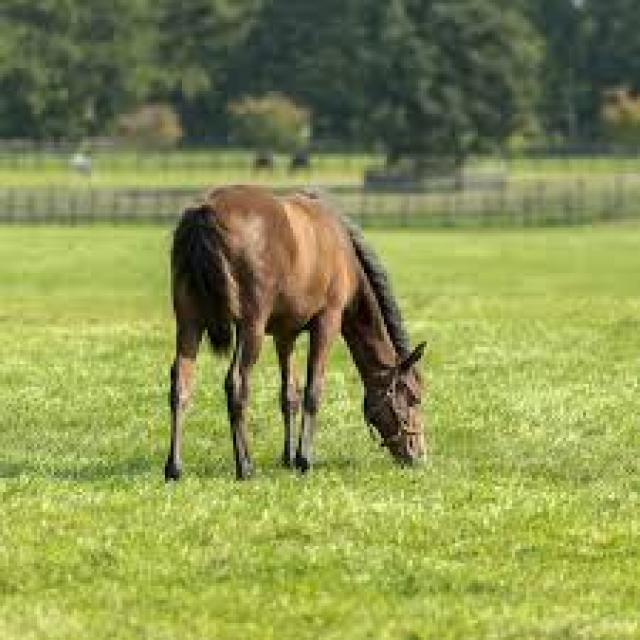horse-eating: (162, 167, 438, 523)
